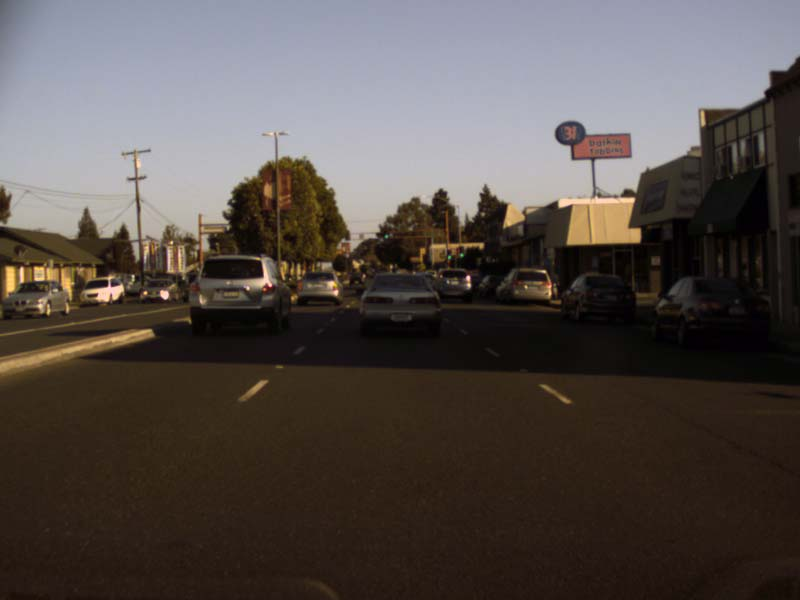Green: (383, 228, 388, 239), (459, 247, 463, 257), (446, 250, 450, 259)
